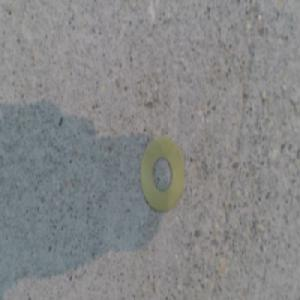Washer: (140, 133, 184, 211)
